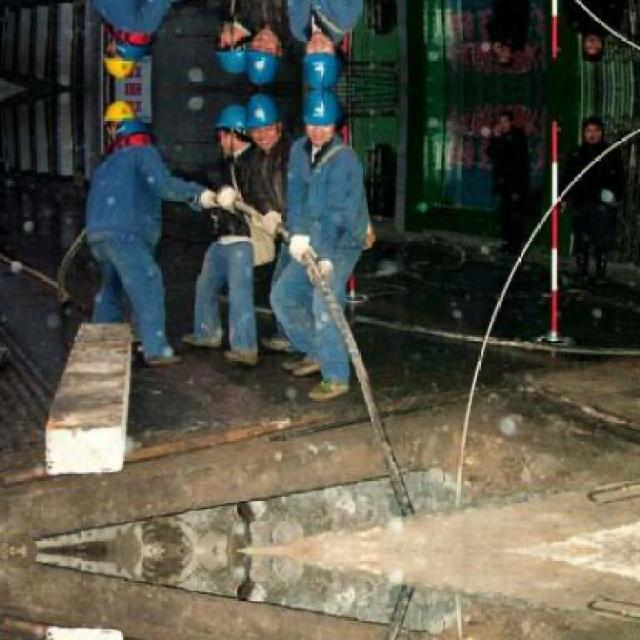helmet: (212, 18, 257, 76), (297, 89, 343, 145), (240, 92, 283, 151), (297, 31, 343, 86), (212, 102, 257, 158), (240, 25, 283, 83), (98, 35, 142, 80), (98, 97, 142, 141)
